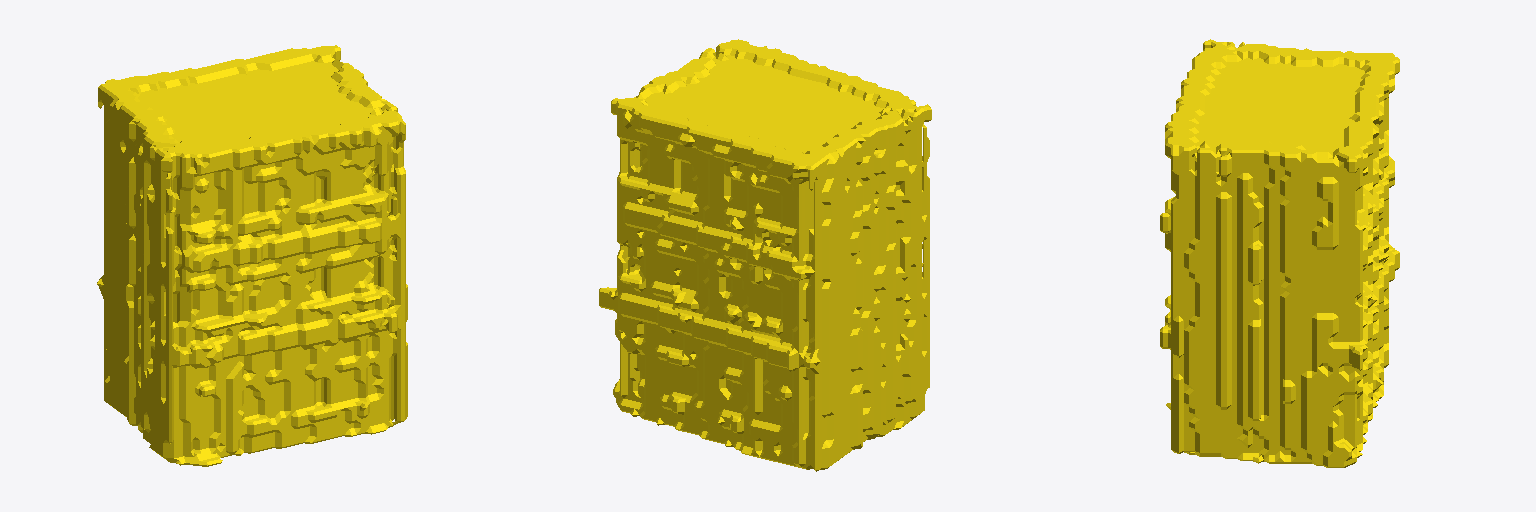
Rendered from gen8_colored.obj.
3 views of the same model, side by side, from view 1: azimuth 30°, elevation 25°; view 2: azimuth 150°, elevation 25°; view 3: azimuth 270°, elevation 25° (orthographic).
Visible parts, largest first — view 1: gen8.obj; view 2: gen8.obj; view 3: gen8.obj.
Part boxes in pixels (x1,y1,x2,y2): gen8.obj: (97, 45, 407, 466); gen8.obj: (599, 39, 931, 471); gen8.obj: (1160, 39, 1399, 467).
Bounding box in the file's own units: 56 × 64 × 45.